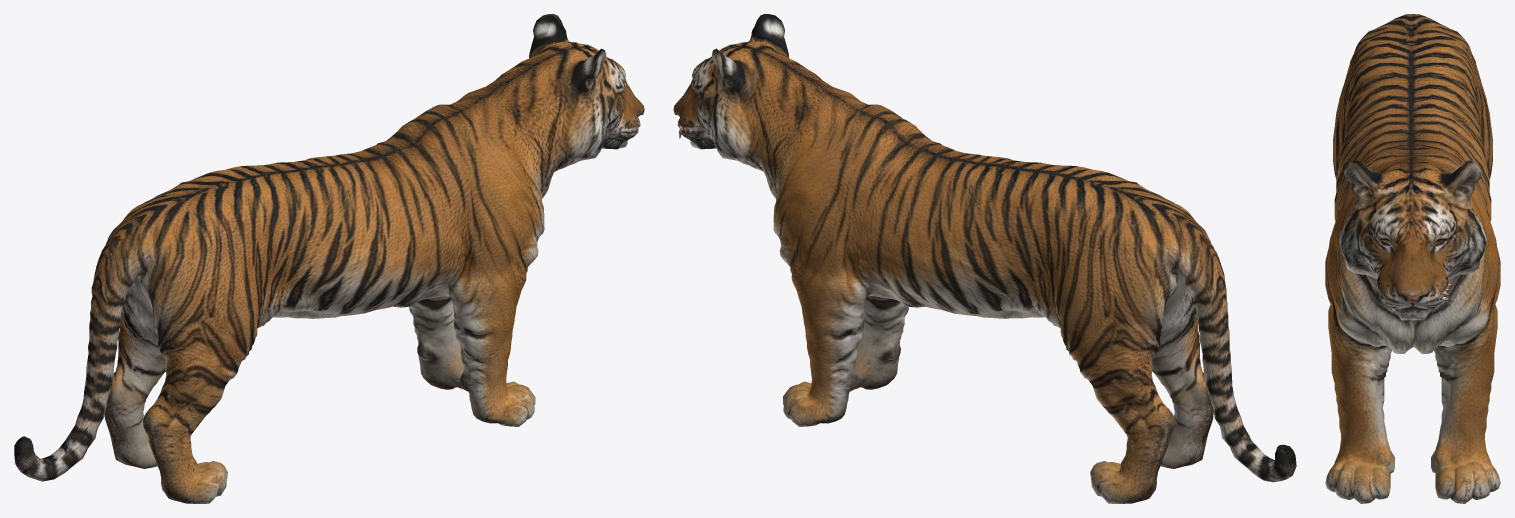
The picture shows the model from 3 angles, left to right: view 1: azimuth 30°, elevation 25°; view 2: azimuth 150°, elevation 25°; view 3: azimuth 270°, elevation 25°; orthographic projection. The views are drawn at different scales.
Parts seen in each view (by area): view 1: tripo_node_e7126733-eb3e-40c2-a21a-3908cbb51b4e_0; view 2: tripo_node_e7126733-eb3e-40c2-a21a-3908cbb51b4e_0; view 3: tripo_node_e7126733-eb3e-40c2-a21a-3908cbb51b4e_0.
Boxes of the visible parts, bbox=[...] form: tripo_node_e7126733-eb3e-40c2-a21a-3908cbb51b4e_0: bbox=[14, 14, 644, 503]; tripo_node_e7126733-eb3e-40c2-a21a-3908cbb51b4e_0: bbox=[673, 14, 1296, 503]; tripo_node_e7126733-eb3e-40c2-a21a-3908cbb51b4e_0: bbox=[1325, 14, 1500, 503].
Bounding box in the file's own units: 0.9788 × 0.5248 × 0.2164.
1 material, 1 textured.
